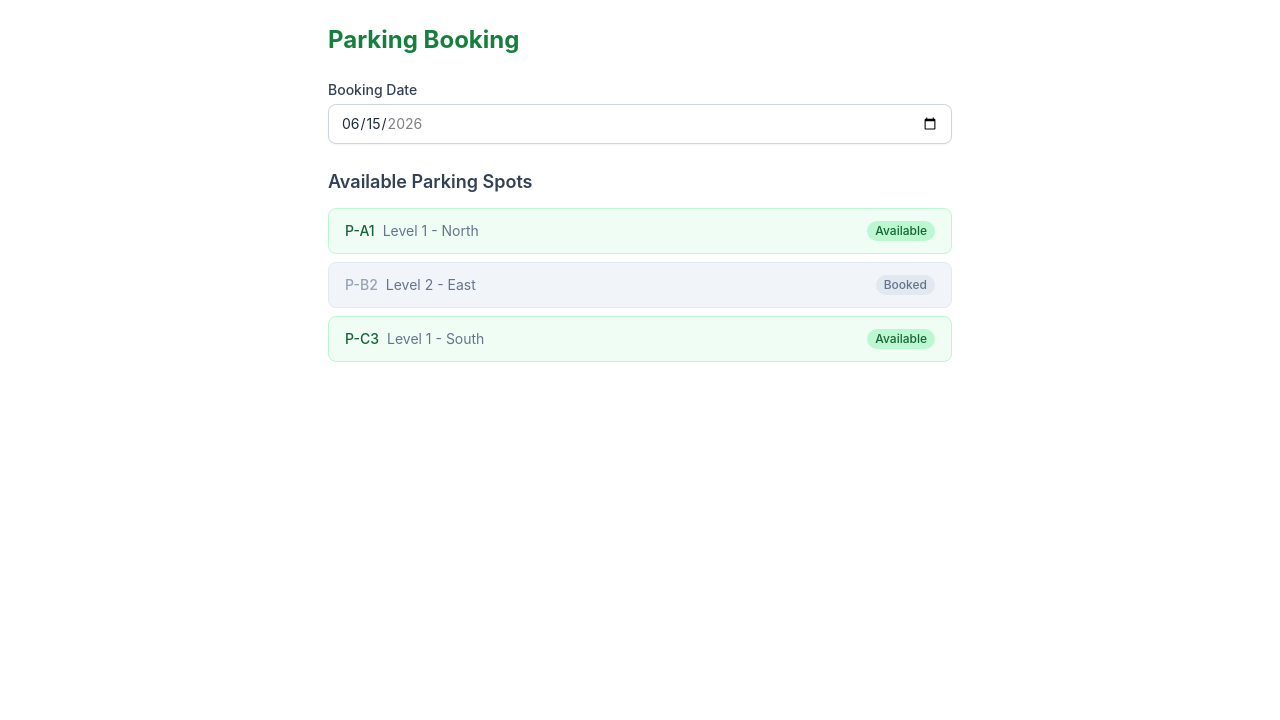
it: ParkingBookingPage › shows booking confirmation dialog on available spot click
The image size is (1280, 720).
Check: the text "P-A1" is shown, box [345,222,375,239]
What coordinates should you click on to do the following:
click the button "P-A1Level 1 - North Available"
I would click on:
 (431, 230)
Its box is [328,208,952,254].
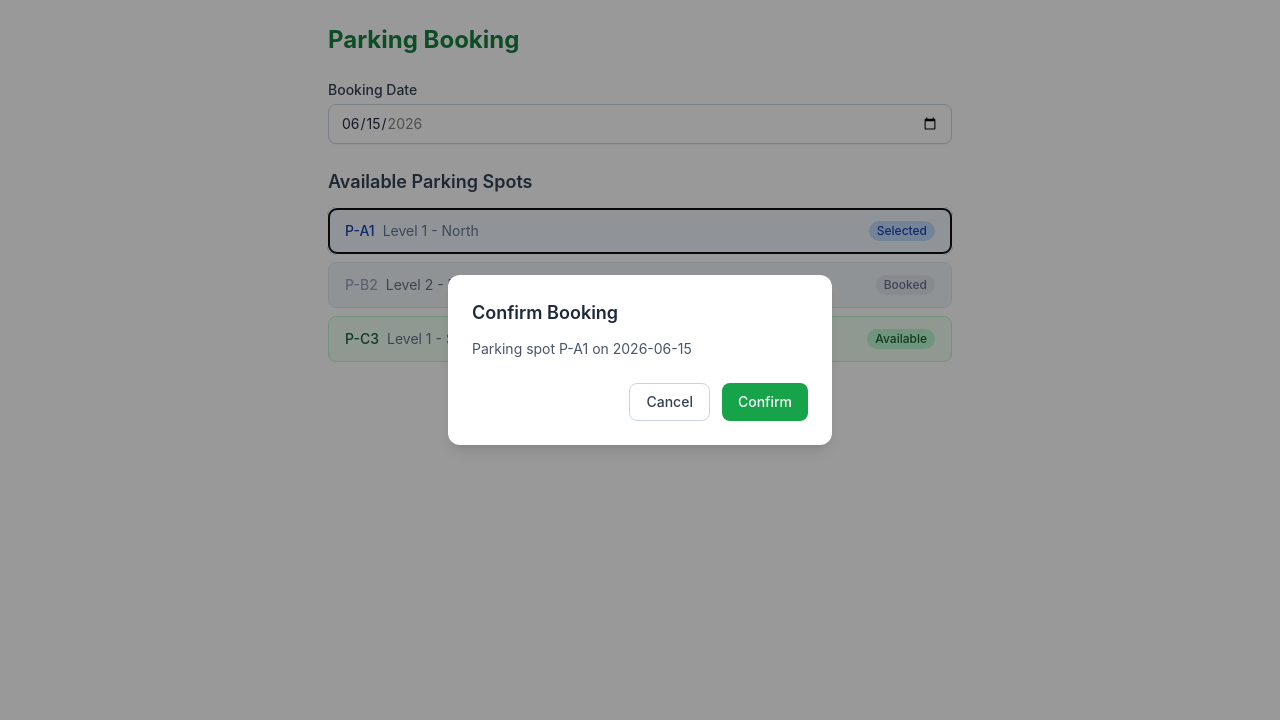
Check: the dialog is shown
Check: the text "Parking spot P-A1 on 2026-06-15" is shown, box [472,340,692,357]
Check: the button "Confirm" is shown, box [722,383,808,421]
